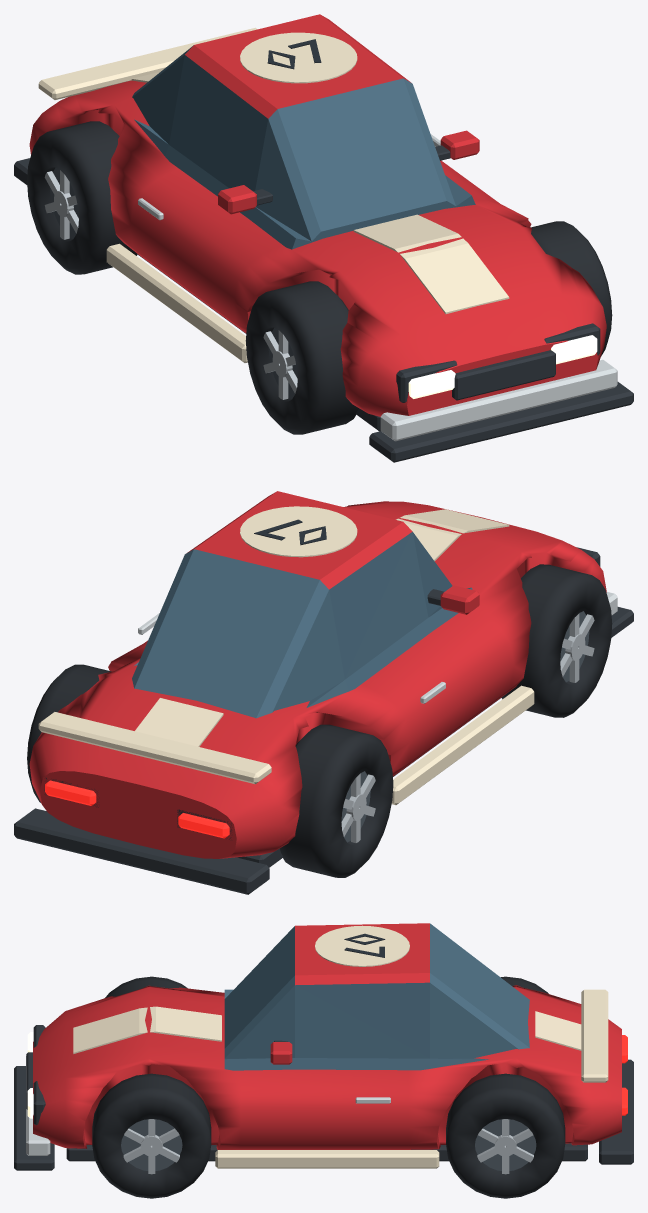
The model's file is r2-car-club.glb.
3 views of the same model, one above another, from view 1: azimuth 30°, elevation 25°; view 2: azimuth 150°, elevation 25°; view 3: azimuth 270°, elevation 25° (orthographic). The views are drawn at different scales.
Parts seen in each view (by area): view 1: r2-car-club-moulded-body, r2-car-club-greenhouse, wheel-front-left, wheel-rear-left, r2-car-club-hood-stripe-0, r2-car-club-front-splitter, r2-car-club-bumper, r2-car-club-roof-number-roundel, r2-car-club-side-sill--1, r2-car-club-boot-lip, wheel-front-right, r2-car-club-grille (+6 smaller); view 2: r2-car-club-moulded-body, r2-car-club-greenhouse, wheel-rear-left, wheel-front-left, r2-car-club-rear-diffuser, r2-car-club-boot-lip, r2-car-club-roof-number-roundel, r2-car-club-side-sill--1, r2-car-club-deck-stripe-0, r2-car-club-hood-stripe-0, wheel-rear-right, r2-car-club-mirror--1 (+3 smaller); view 3: r2-car-club-moulded-body, r2-car-club-greenhouse, wheel-front-right, wheel-rear-right, r2-car-club-side-sill-1, r2-car-club-hood-stripe-0, r2-car-club-roof-number-roundel, r2-car-club-boot-lip, r2-car-club-front-splitter, r2-car-club-rear-diffuser, r2-car-club-deck-stripe-0, r2-car-club-chassis (+4 smaller).
Part boxes in pixels (x1,y1,x2,y2): r2-car-club-moulded-body: [29, 80, 606, 416]; r2-car-club-greenhouse: [132, 14, 475, 249]; wheel-front-left: [245, 281, 358, 434]; wheel-rear-left: [27, 121, 137, 274]; r2-car-club-hood-stripe-0: [353, 214, 509, 314]; r2-car-club-front-splitter: [369, 382, 633, 462]; r2-car-club-bumper: [380, 359, 617, 441]; r2-car-club-roof-number-roundel: [240, 32, 357, 83]; r2-car-club-side-sill--1: [106, 243, 247, 362]; r2-car-club-boot-lip: [38, 27, 257, 99]; wheel-front-right: [531, 221, 612, 356]; r2-car-club-grille: [452, 350, 555, 400]; r2-car-club-moulded-body: [29, 501, 606, 858]; r2-car-club-greenhouse: [132, 491, 472, 718]; wheel-rear-left: [280, 724, 393, 877]; wheel-front-left: [501, 564, 612, 717]; r2-car-club-rear-diffuser: [14, 808, 269, 894]; r2-car-club-boot-lip: [38, 712, 271, 784]; r2-car-club-roof-number-roundel: [240, 506, 357, 557]; r2-car-club-side-sill--1: [391, 685, 534, 805]; r2-car-club-deck-stripe-0: [135, 698, 223, 746]; r2-car-club-hood-stripe-0: [396, 509, 509, 561]; wheel-rear-right: [27, 664, 111, 802]; r2-car-club-mirror--1: [440, 585, 479, 614]; r2-car-club-moulded-body: [33, 985, 621, 1149]; r2-car-club-greenhouse: [224, 923, 529, 1070]; wheel-front-right: [92, 1073, 211, 1198]; wheel-rear-right: [446, 1073, 565, 1198]; r2-car-club-side-sill-1: [215, 1150, 439, 1168]; r2-car-club-hood-stripe-0: [73, 1006, 221, 1053]; r2-car-club-roof-number-roundel: [315, 925, 409, 966]; r2-car-club-boot-lip: [581, 989, 608, 1082]; r2-car-club-front-splitter: [14, 1066, 54, 1170]; r2-car-club-rear-diffuser: [599, 1059, 633, 1164]; r2-car-club-deck-stripe-0: [535, 1011, 581, 1050]; r2-car-club-chassis: [66, 1143, 587, 1161].
Size of the model in its own units: 1.04 by 0.8115 by 2.3.
